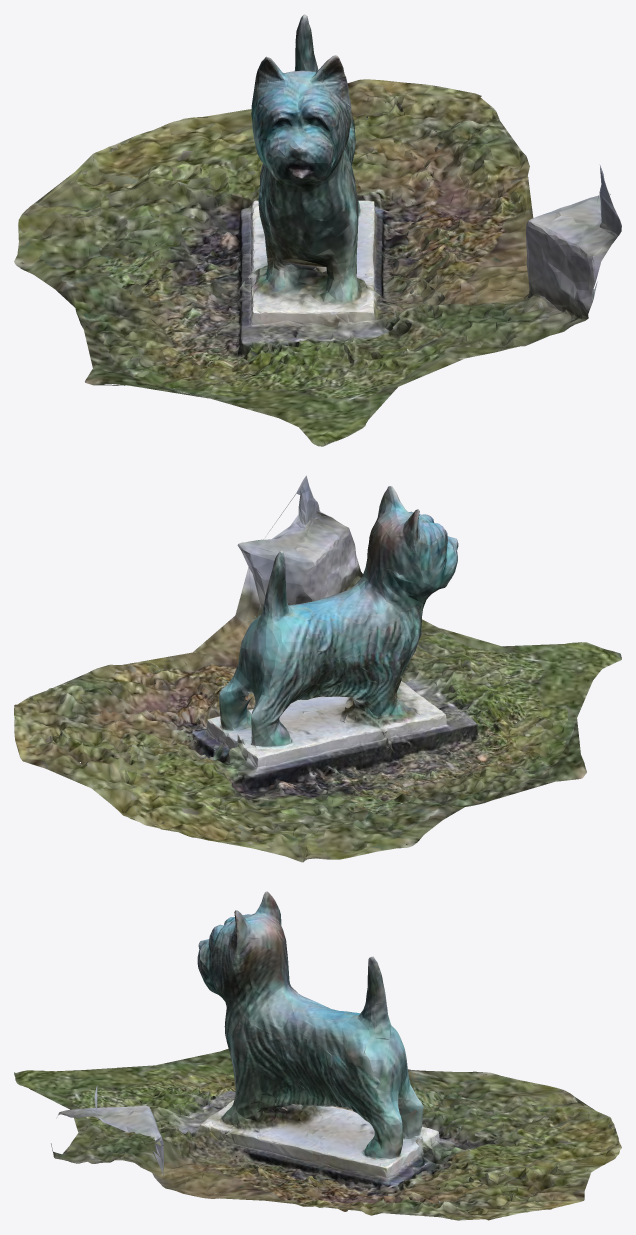
Rendered from yorkshire.glb.
3 views of the same model, one above another, from view 1: azimuth 30°, elevation 25°; view 2: azimuth 150°, elevation 25°; view 3: azimuth 270°, elevation 25° (orthographic). The views are drawn at different scales.
Visible parts, largest first — view 1: mesh; view 2: mesh; view 3: mesh.
Boxes of the visible parts, bbox=[...] form: mesh: bbox=[14, 14, 621, 446]; mesh: bbox=[14, 475, 621, 862]; mesh: bbox=[14, 891, 621, 1220].
Size of the model in its own units: 1.21 by 0.6137 by 1.41.
1 material, 1 textured.
